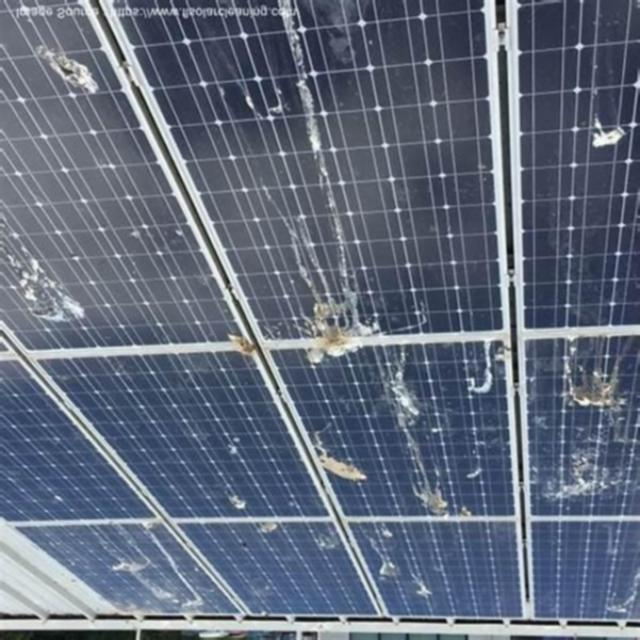soiled: (216, 0, 491, 350), (1, 0, 241, 357), (41, 337, 302, 521), (510, 0, 640, 333), (289, 336, 522, 518), (522, 326, 640, 518), (26, 522, 238, 620), (174, 524, 368, 626), (344, 522, 521, 620), (528, 519, 640, 620)
